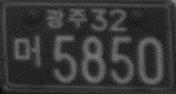0: (137, 36, 164, 86)
2: (109, 8, 128, 32)
3: (91, 7, 108, 31)
5: (109, 35, 136, 84), (52, 33, 77, 84)
8: (81, 35, 106, 83)
광주_O: (44, 6, 86, 28)
머: (13, 34, 42, 69)
